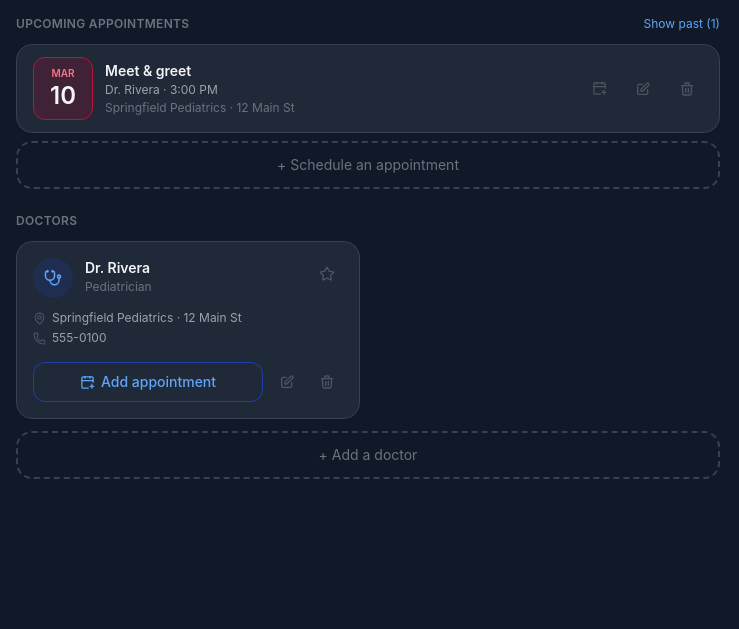
Test: DoctorsPage › lists upcoming appointments and hides past ones behind a toggle
The image size is (739, 629).
Expected: the text "Meet & greet" is shown, top-left (105, 62), bottom-right (191, 79)
Click the button "Show past (1)" at {"x": 682, "y": 24}, box top-left (644, 16), bottom-right (720, 32)
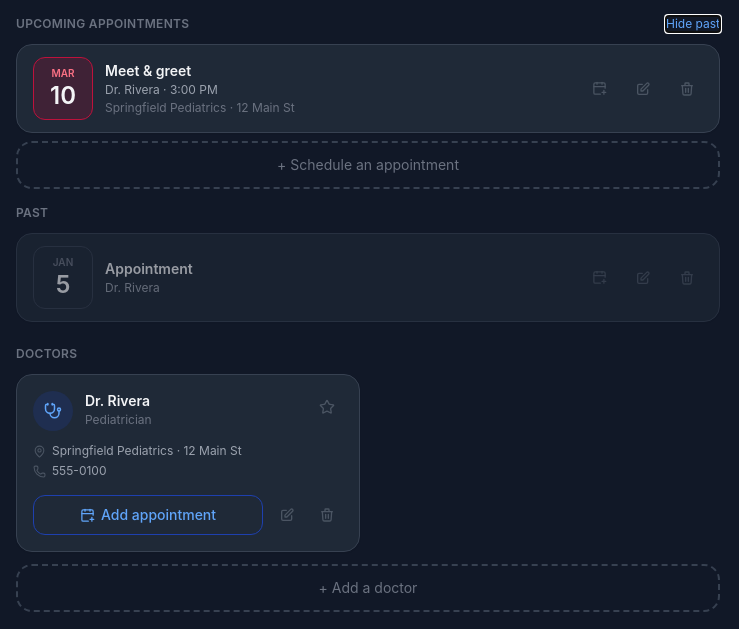
Expected: the text "Appointment" is shown, top-left (105, 260), bottom-right (193, 277)
